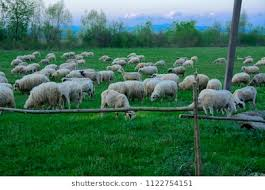sheep: (197, 87, 234, 120), (100, 90, 136, 121), (22, 82, 59, 110), (148, 78, 177, 106), (232, 85, 258, 110), (177, 73, 208, 93), (12, 75, 49, 91), (231, 70, 251, 87), (118, 68, 141, 80), (79, 70, 102, 81), (50, 68, 69, 81), (239, 64, 259, 76), (138, 65, 157, 77), (250, 72, 265, 85), (167, 67, 186, 76), (106, 64, 121, 73), (9, 65, 24, 74), (181, 58, 194, 68), (212, 56, 226, 65), (170, 58, 183, 67), (127, 57, 140, 66), (242, 57, 254, 66), (8, 58, 21, 66), (98, 55, 110, 62), (46, 55, 57, 62), (39, 58, 48, 64)
